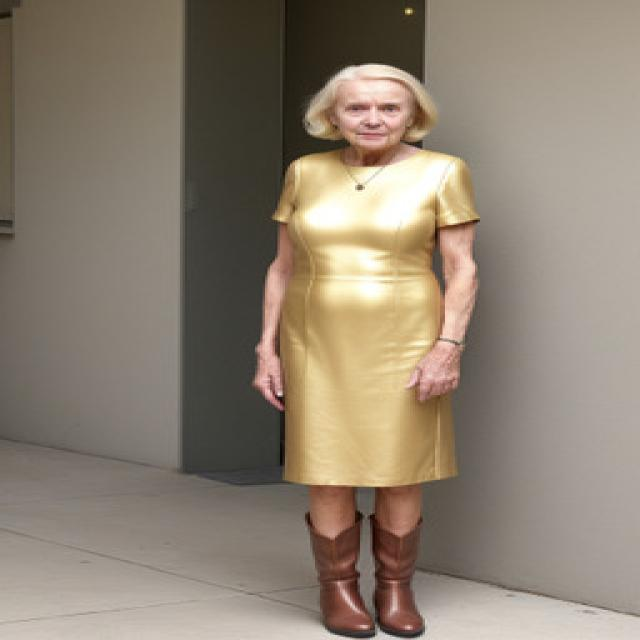Ai human 2: (235, 50, 507, 640)
